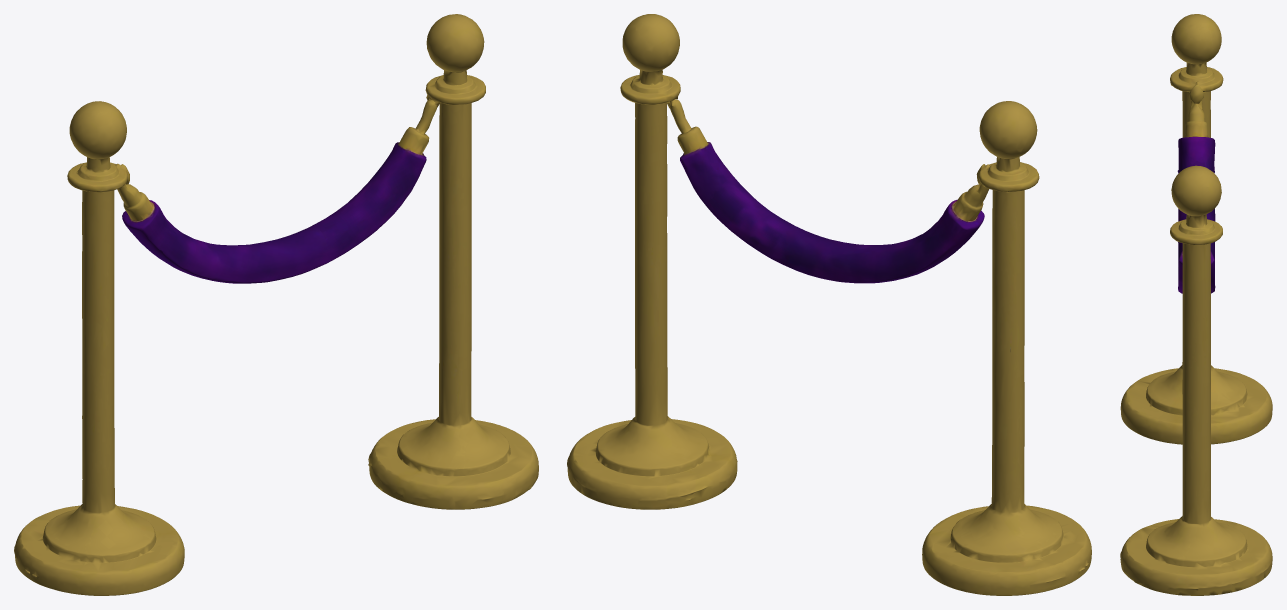
The model's file is stanchion-velvet-rope-tripo.glb.
The picture shows the model from 3 angles, left to right: view 1: azimuth 30°, elevation 25°; view 2: azimuth 150°, elevation 25°; view 3: azimuth 270°, elevation 25°; orthographic projection. The views are drawn at different scales.
Visible parts, largest first — view 1: tripo_node_7c6ebcc4-fb04-42e8-8043-1d118a779b46; view 2: tripo_node_7c6ebcc4-fb04-42e8-8043-1d118a779b46; view 3: tripo_node_7c6ebcc4-fb04-42e8-8043-1d118a779b46.
Boxes of the visible parts, x1=… form: tripo_node_7c6ebcc4-fb04-42e8-8043-1d118a779b46: x1=14, y1=14, x2=538, y2=595; tripo_node_7c6ebcc4-fb04-42e8-8043-1d118a779b46: x1=567, y1=14, x2=1091, y2=595; tripo_node_7c6ebcc4-fb04-42e8-8043-1d118a779b46: x1=1120, y1=14, x2=1272, y2=595.
Size of the model in its own units: 1 by 0.8672 by 0.3007.
1 material, 1 textured.
